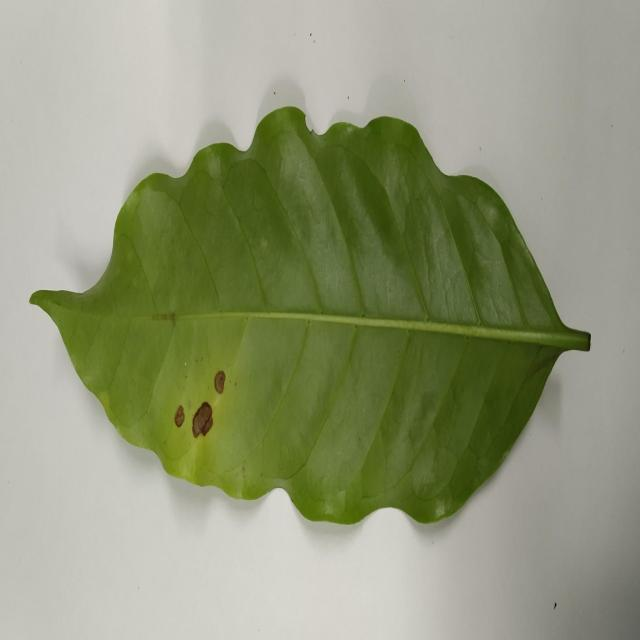Enfermedad-Mancha-de-hierro: (28, 106, 592, 529)
